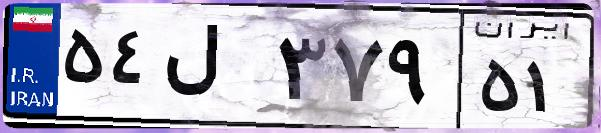1: (525, 38, 570, 115)
3: (270, 28, 330, 110)
4: (110, 28, 158, 98)
5: (57, 26, 110, 100), (475, 38, 525, 113)
7: (330, 28, 385, 110)
9: (385, 28, 445, 110)
ل: (158, 20, 270, 120)
